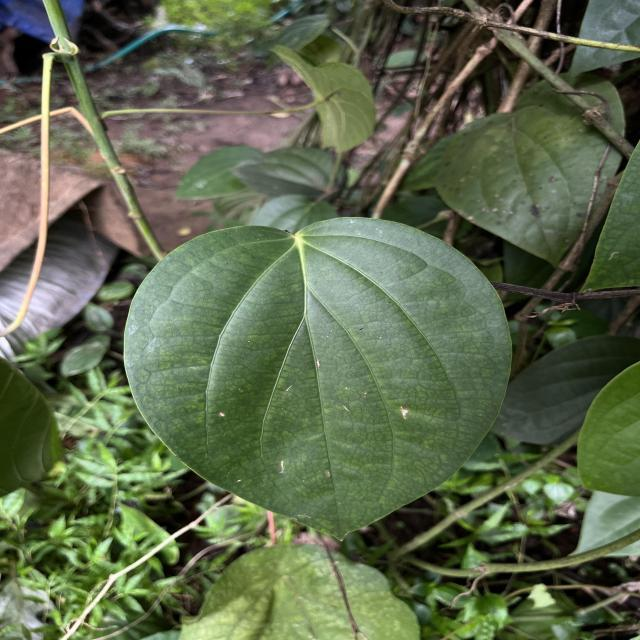Piper nigrum: (119, 212, 515, 544)
